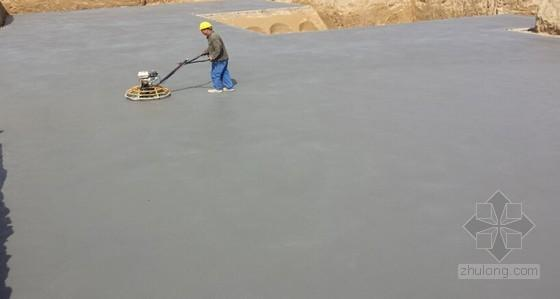helmet: (197, 20, 215, 40)
